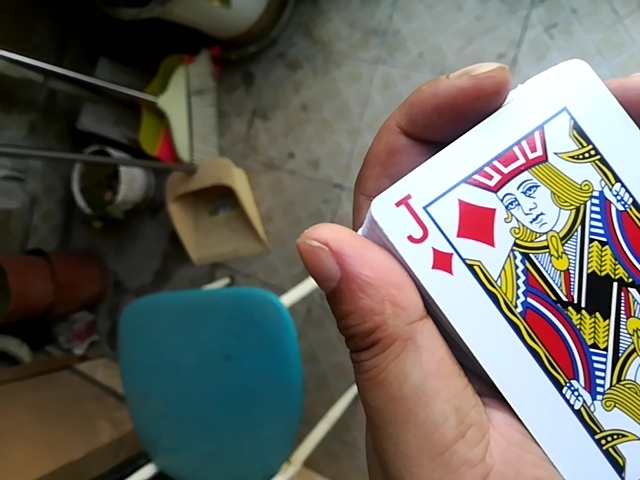fk j: (354, 60, 640, 479)
